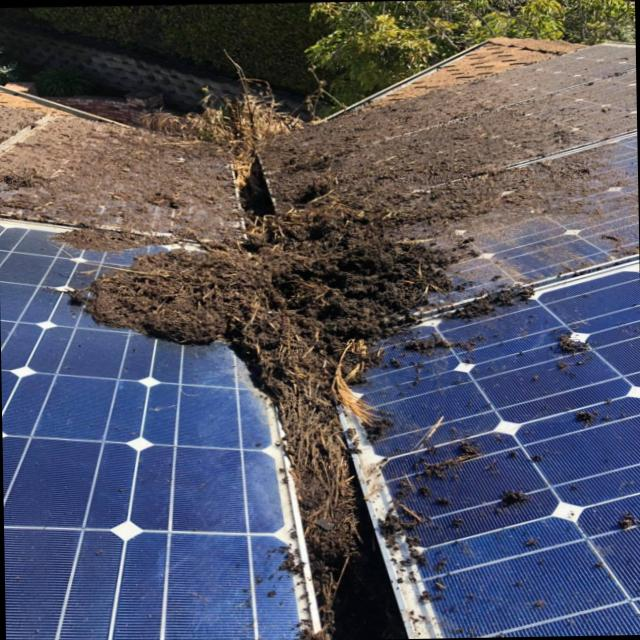faulty: (389, 99, 640, 638), (0, 153, 262, 640)
